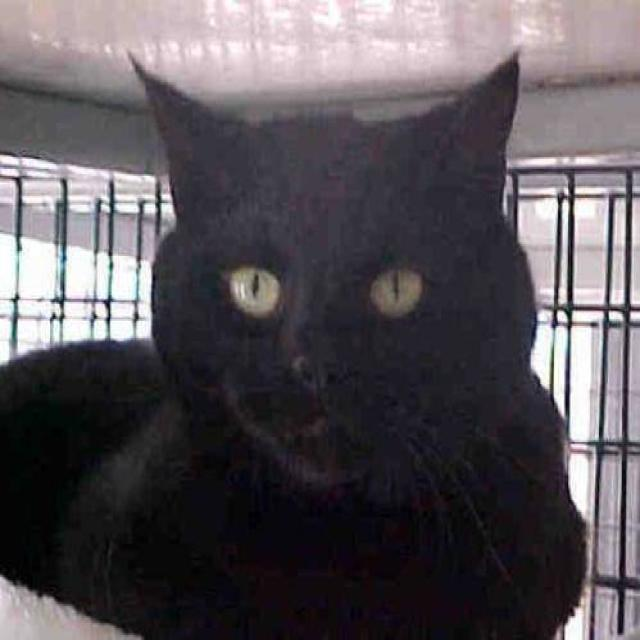cat: (0, 44, 587, 638)
